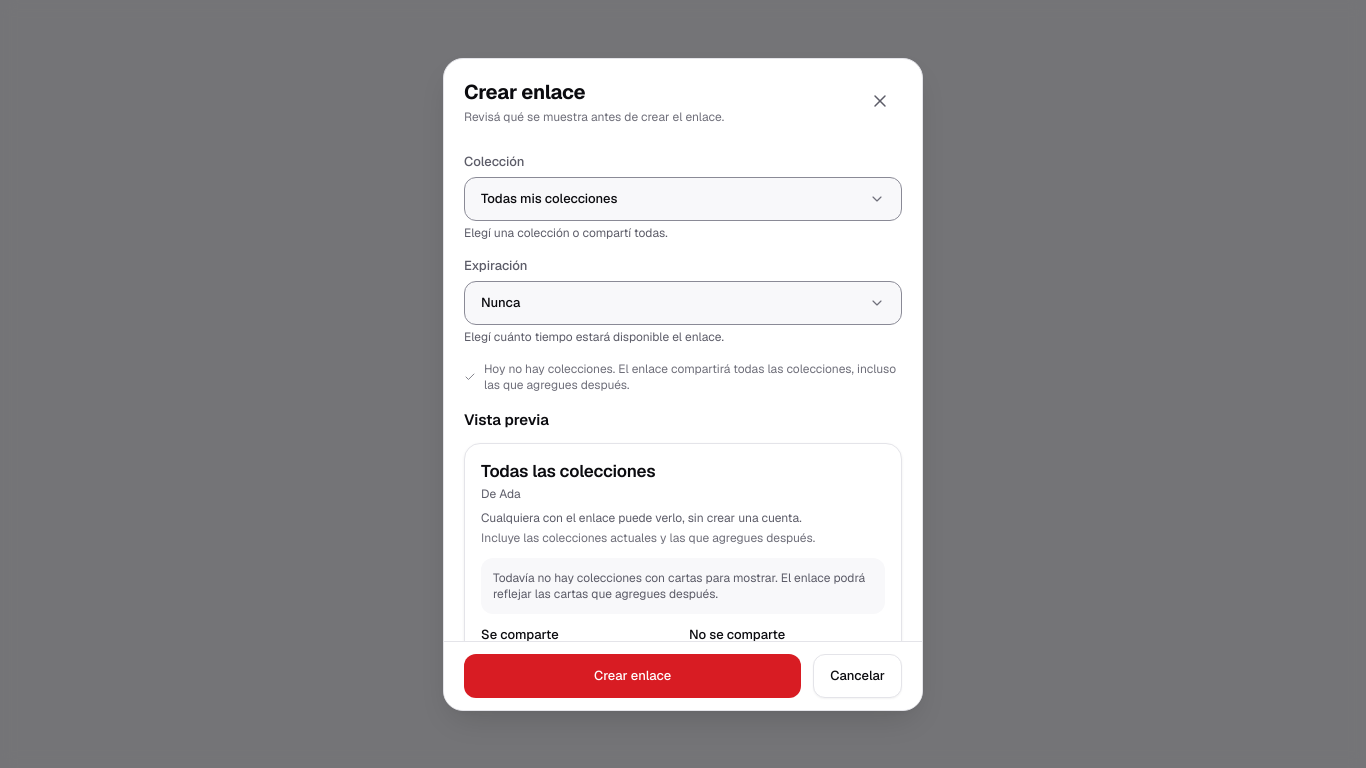
Test: flujo privado de compartir › sin colecciones no hace muestra y crea scope global dinámico sin vencimiento
Expected: the text "Hoy no hay colecciones" is shown, [484,361,896,393]
Click the button "Crear enlace" at (633, 675), box [464,653,801,697]
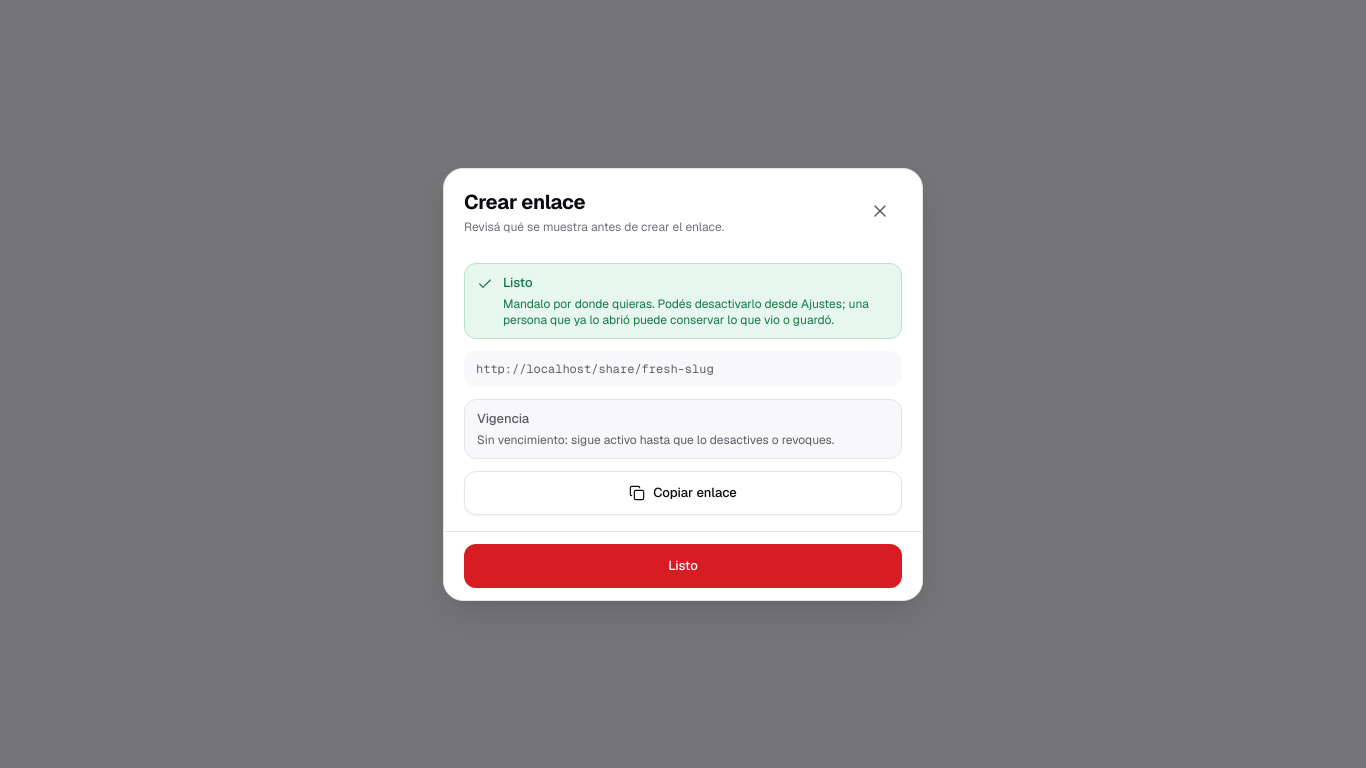
Expected: the button "Copiar enlace" is shown, [464,470,902,514]
